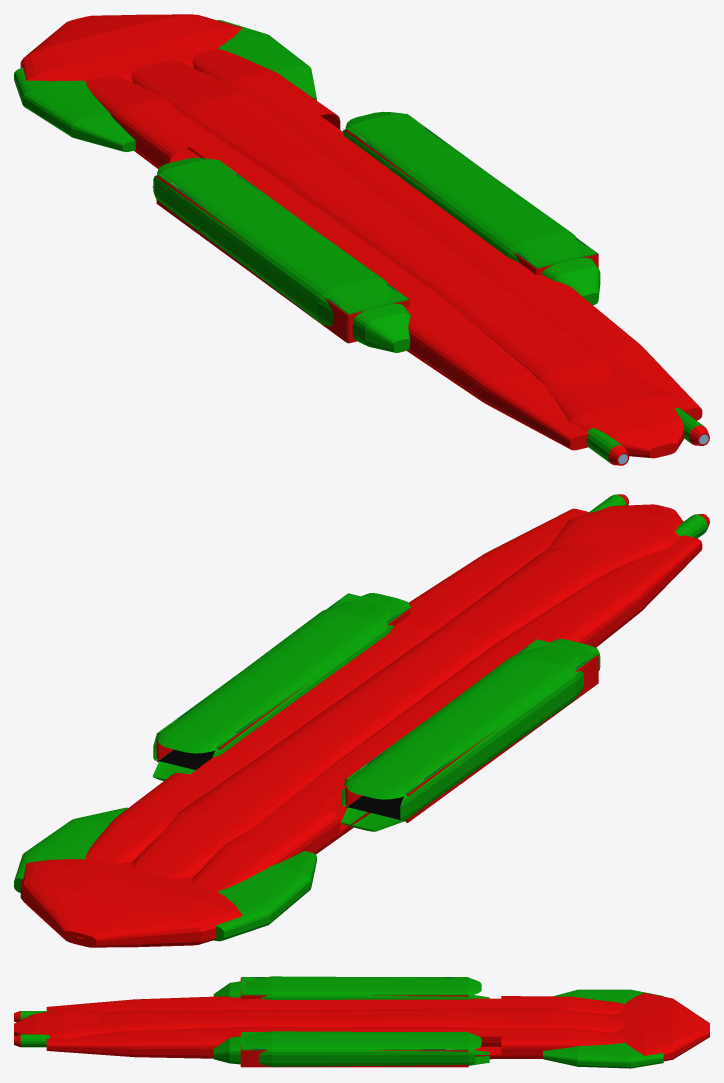
The model's file is meridian.glb.
The picture shows the model from 3 angles, top to bottom: view 1: azimuth 30°, elevation 25°; view 2: azimuth 150°, elevation 25°; view 3: azimuth 270°, elevation 25°; orthographic projection. The views are drawn at different scales.
Visible parts, largest first — view 1: horizon_meridian:central_spine, horizon_meridian:structural_shoulder_-1, horizon_meridian:hangar_fairing_-1, horizon_meridian:structural_shoulder_1, horizon_meridian:hangar_fairing_1, horizon_meridian:inhabited_crescent, horizon_meridian:drive_hull, horizon_meridian:crescent_tip_-1, horizon_meridian:crescent_tip_1, horizon_meridian:sheltered_hangar_-1, horizon_meridian:sheltered_hangar_1, horizon_meridian:field_drive_49; view 2: horizon_meridian:central_spine, horizon_meridian:structural_shoulder_-1, horizon_meridian:hangar_fairing_-1, horizon_meridian:structural_shoulder_1, horizon_meridian:inhabited_crescent, horizon_meridian:hangar_fairing_1, horizon_meridian:drive_hull, horizon_meridian:crescent_tip_-1, horizon_meridian:crescent_tip_1, horizon_meridian:sheltered_hangar_-1, horizon_meridian:sheltered_hangar_1, horizon_meridian:pad_Port sheltered hangar; view 3: horizon_meridian:central_spine, horizon_meridian:structural_shoulder_1, horizon_meridian:hangar_fairing_1, horizon_meridian:structural_shoulder_-1, horizon_meridian:hangar_fairing_-1, horizon_meridian:inhabited_crescent, horizon_meridian:crescent_tip_1, horizon_meridian:drive_hull, horizon_meridian:sheltered_hangar_1, horizon_meridian:crescent_tip_-1, horizon_meridian:sheltered_hangar_-1, horizon_meridian:field_drive_50 (+1 smaller).
Boxes of the visible parts, x1,y1,x2,y2 form: horizon_meridian:central_spine: (131, 61, 612, 386); horizon_meridian:structural_shoulder_-1: (85, 76, 588, 450); horizon_meridian:hangar_fairing_-1: (152, 158, 410, 352); horizon_meridian:structural_shoulder_1: (192, 48, 702, 420); horizon_meridian:hangar_fairing_1: (342, 111, 600, 305); horizon_meridian:inhabited_crescent: (20, 14, 242, 82); horizon_meridian:drive_hull: (543, 366, 684, 458); horizon_meridian:crescent_tip_-1: (14, 67, 135, 151); horizon_meridian:crescent_tip_1: (217, 20, 316, 100); horizon_meridian:sheltered_hangar_-1: (156, 159, 409, 343); horizon_meridian:sheltered_hangar_1: (345, 113, 598, 275); horizon_meridian:field_drive_49: (586, 428, 628, 465); horizon_meridian:central_spine: (131, 544, 612, 878); horizon_meridian:structural_shoulder_-1: (192, 535, 702, 891); horizon_meridian:hangar_fairing_-1: (341, 639, 600, 831); horizon_meridian:structural_shoulder_1: (85, 508, 588, 863); horizon_meridian:inhabited_crescent: (20, 859, 242, 947); horizon_meridian:hangar_fairing_1: (152, 593, 410, 780); horizon_meridian:drive_hull: (544, 504, 683, 570); horizon_meridian:crescent_tip_-1: (213, 851, 316, 941); horizon_meridian:crescent_tip_1: (14, 807, 127, 892); horizon_meridian:sheltered_hangar_-1: (345, 639, 598, 822); horizon_meridian:sheltered_hangar_1: (156, 593, 409, 761); horizon_meridian:pad_Port sheltered hangar: (347, 795, 406, 821); horizon_meridian:central_spine: (98, 1008, 623, 1046); horizon_meridian:structural_shoulder_1: (46, 1026, 624, 1059); horizon_meridian:hangar_fairing_1: (213, 1031, 489, 1066); horizon_meridian:structural_shoulder_-1: (46, 996, 624, 1015); horizon_meridian:hangar_fairing_-1: (213, 976, 489, 999); horizon_meridian:inhabited_crescent: (612, 993, 709, 1061); horizon_meridian:crescent_tip_1: (543, 1042, 663, 1068); horizon_meridian:drive_hull: (14, 1008, 116, 1038); horizon_meridian:sheltered_hangar_1: (240, 1032, 468, 1067); horizon_meridian:crescent_tip_-1: (554, 989, 663, 1003); horizon_meridian:sheltered_hangar_-1: (240, 977, 468, 999); horizon_meridian:field_drive_50: (14, 1034, 50, 1047).
Bounding box in the file's own units: 384 × 69.76 × 1500.
